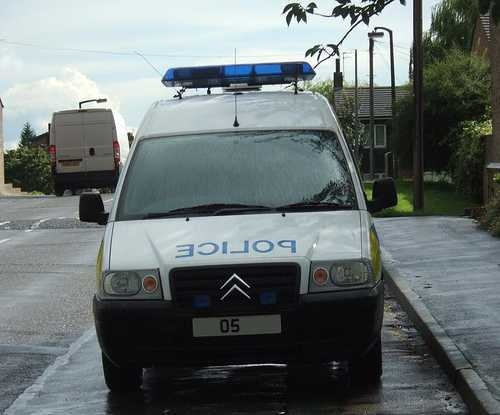Police Van: (76, 42, 394, 391)
